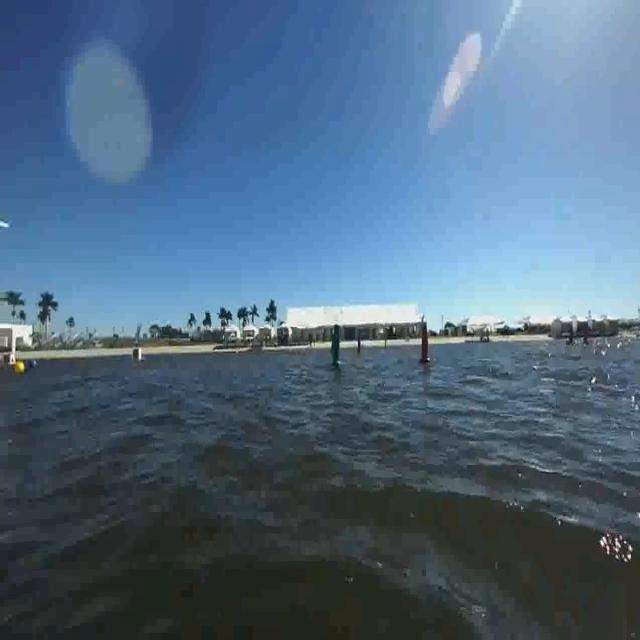green-column-buoy: (331, 330, 342, 367)
red-column-buoy: (418, 318, 431, 370)
